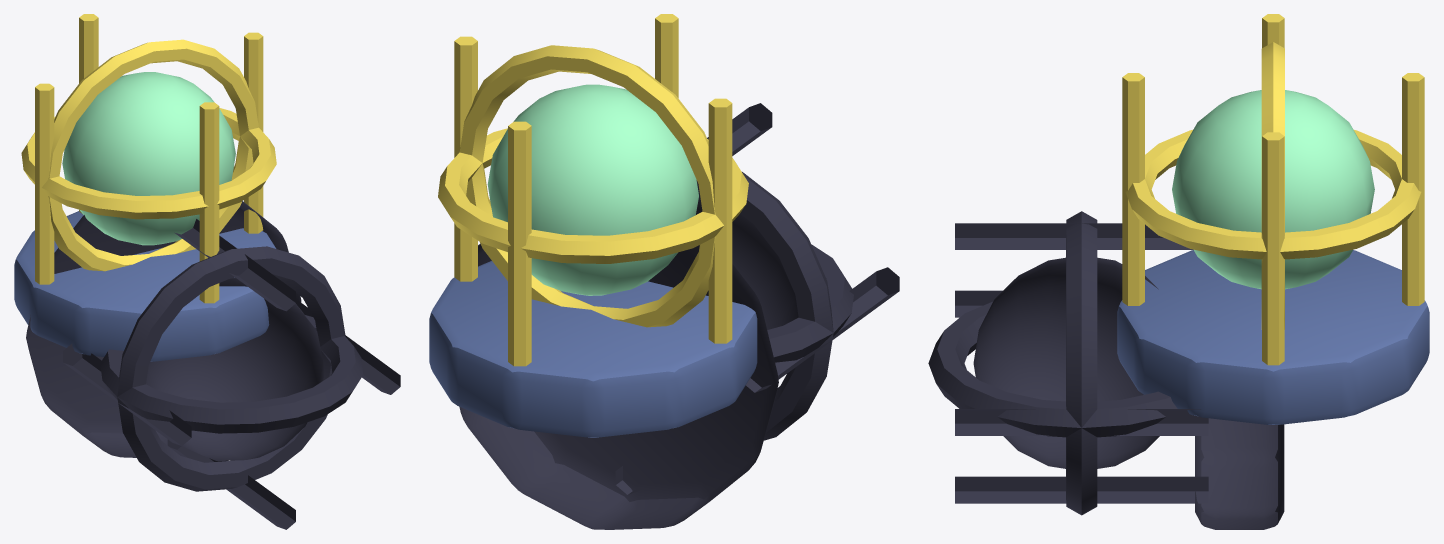
File: Pieza_Nucleo.fbx
The picture shows the model from 3 angles, left to right: view 1: azimuth 30°, elevation 25°; view 2: azimuth 150°, elevation 25°; view 3: azimuth 270°, elevation 25°; orthographic projection. The views are drawn at different scales.
Visible parts, largest first — view 1: Nucleo_Base, Nucleo_Esfera, Nucleo_Aro1_Contorno, Nucleo_Esfera_Contorno, Nucleo_Aro2, Nucleo_Aro2_Contorno, Nucleo_Base_Contorno, Nucleo_Aro1, Nucleo_Barra2, Nucleo_Barra3, Nucleo_Barra0, Nucleo_Barra1_Contorno (+4 smaller); view 2: Nucleo_Base, Nucleo_Base_Contorno, Nucleo_Esfera, Nucleo_Aro2, Nucleo_Aro1, Nucleo_Aro1_Contorno, Nucleo_Barra1, Nucleo_Barra2, Nucleo_Esfera_Contorno, Nucleo_Aro2_Contorno, Nucleo_Barra0, Nucleo_Barra2_Contorno (+2 smaller); view 3: Nucleo_Base, Nucleo_Esfera, Nucleo_Esfera_Contorno, Nucleo_Aro1, Nucleo_Aro2_Contorno, Nucleo_Base_Contorno, Nucleo_Aro1_Contorno, Nucleo_Barra3_Contorno, Nucleo_Barra0, Nucleo_Barra1, Nucleo_Barra3, Nucleo_Barra1_Contorno (+4 smaller).
Boxes of the visible parts, x1,y1,x2,y2 form: Nucleo_Base: (14, 211, 276, 361); Nucleo_Esfera: (62, 72, 235, 245); Nucleo_Aro1_Contorno: (117, 246, 345, 491); Nucleo_Esfera_Contorno: (146, 277, 324, 460); Nucleo_Aro2: (48, 39, 258, 271); Nucleo_Aro2_Contorno: (100, 315, 363, 433); Nucleo_Base_Contorno: (26, 201, 301, 457); Nucleo_Aro1: (21, 108, 276, 219); Nucleo_Barra2: (35, 83, 54, 284); Nucleo_Barra3: (199, 102, 219, 303); Nucleo_Barra0: (244, 32, 263, 233); Nucleo_Barra1_Contorno: (174, 219, 295, 311); Nucleo_Base: (429, 261, 757, 437); Nucleo_Base_Contorno: (459, 243, 778, 529); Nucleo_Esfera: (487, 84, 698, 295); Nucleo_Aro2: (459, 45, 715, 327); Nucleo_Aro1: (438, 128, 748, 263); Nucleo_Aro1_Contorno: (696, 172, 833, 440); Nucleo_Barra1: (508, 121, 531, 366); Nucleo_Barra2: (708, 98, 732, 343); Nucleo_Esfera_Contorno: (696, 190, 798, 329); Nucleo_Aro2_Contorno: (767, 244, 853, 362); Nucleo_Barra0: (454, 36, 477, 281); Nucleo_Barra2_Contorno: (746, 267, 899, 392); Nucleo_Base: (1117, 250, 1429, 424); Nucleo_Esfera: (1172, 90, 1374, 289); Nucleo_Esfera_Contorno: (973, 257, 1159, 468); Nucleo_Aro1: (1125, 130, 1421, 259); Nucleo_Aro2_Contorno: (928, 301, 1177, 437); Nucleo_Base_Contorno: (1195, 418, 1284, 529); Nucleo_Aro1_Contorno: (1066, 211, 1097, 515); Nucleo_Barra3_Contorno: (955, 476, 1208, 503); Nucleo_Barra0: (1262, 132, 1284, 365); Nucleo_Barra1: (1402, 73, 1424, 305); Nucleo_Barra3: (1122, 73, 1144, 305); Nucleo_Barra1_Contorno: (955, 223, 1193, 249).
Bounding box in the file's own units: 1.48 × 2.25 × 2.22.
